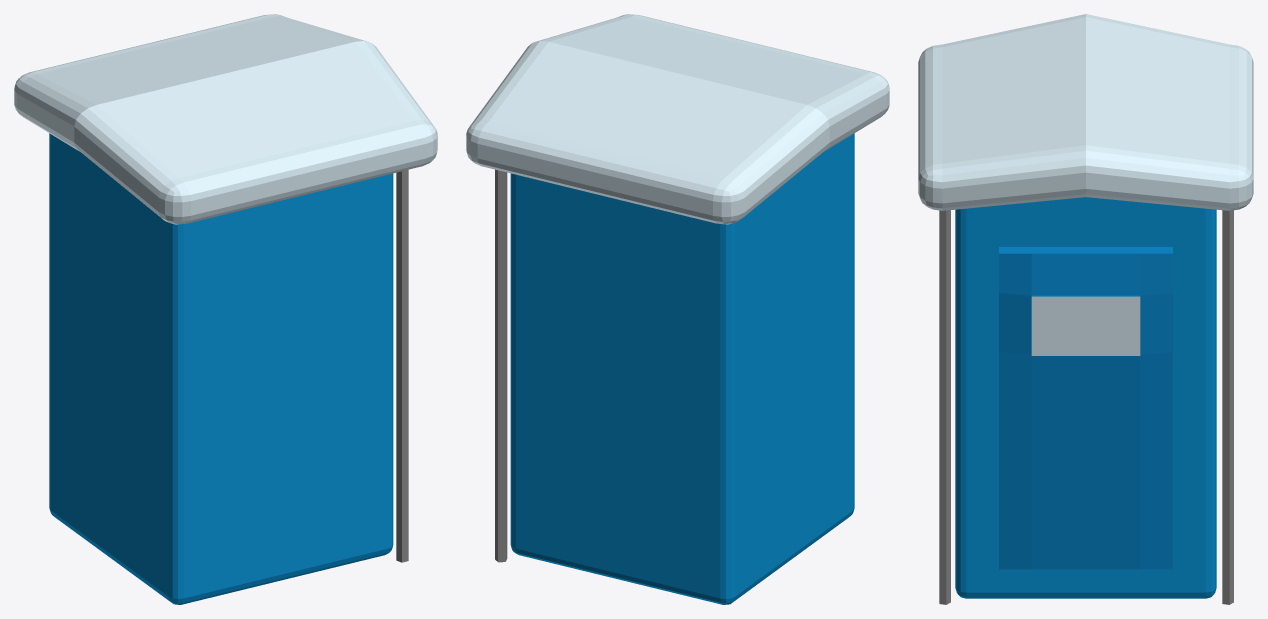
The model's file is Toilet.fbx.
The picture shows the model from 3 angles, left to right: view 1: azimuth 30°, elevation 25°; view 2: azimuth 150°, elevation 25°; view 3: azimuth 270°, elevation 25°; orthographic projection.
Visible parts, largest first — view 1: Toilet, Roof; view 2: Toilet, Roof; view 3: Toilet, Roof.
Part boxes in pixels (<box>): Toilet: <box>49,133,408,604</box>; Roof: <box>14,14,437,224</box>; Toilet: <box>495,133,854,604</box>; Roof: <box>466,14,889,224</box>; Toilet: <box>939,197,1233,604</box>; Roof: <box>918,14,1253,210</box>.
Bounding box in the file's own units: 163 × 237 × 154.
